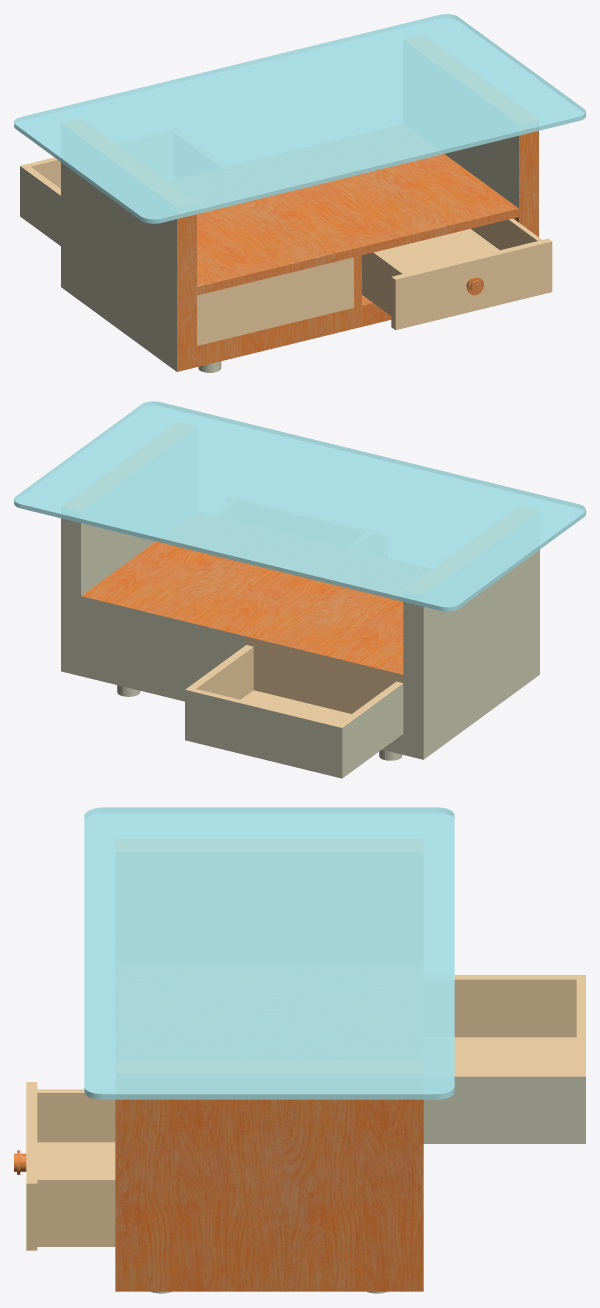
3 renders of one model, top to bottom at view 1: azimuth 30°, elevation 25°; view 2: azimuth 150°, elevation 25°; view 3: azimuth 270°, elevation 25°, orthographic. The views are drawn at different scales.
Parts seen in each view (by area): view 1: SketchUp (×6); view 2: SketchUp (×4); view 3: SketchUp (×5).
Part boxes in pixels (box(x1,y1,x2,y2)): SketchUp (×6): box(14, 14, 585, 371); SketchUp (×4): box(14, 401, 585, 778); SketchUp (×5): box(26, 807, 585, 1291).
Bounding box in the file's own units: 43.31 × 36.5 × 17.72.
4 materials, 1 textured.
